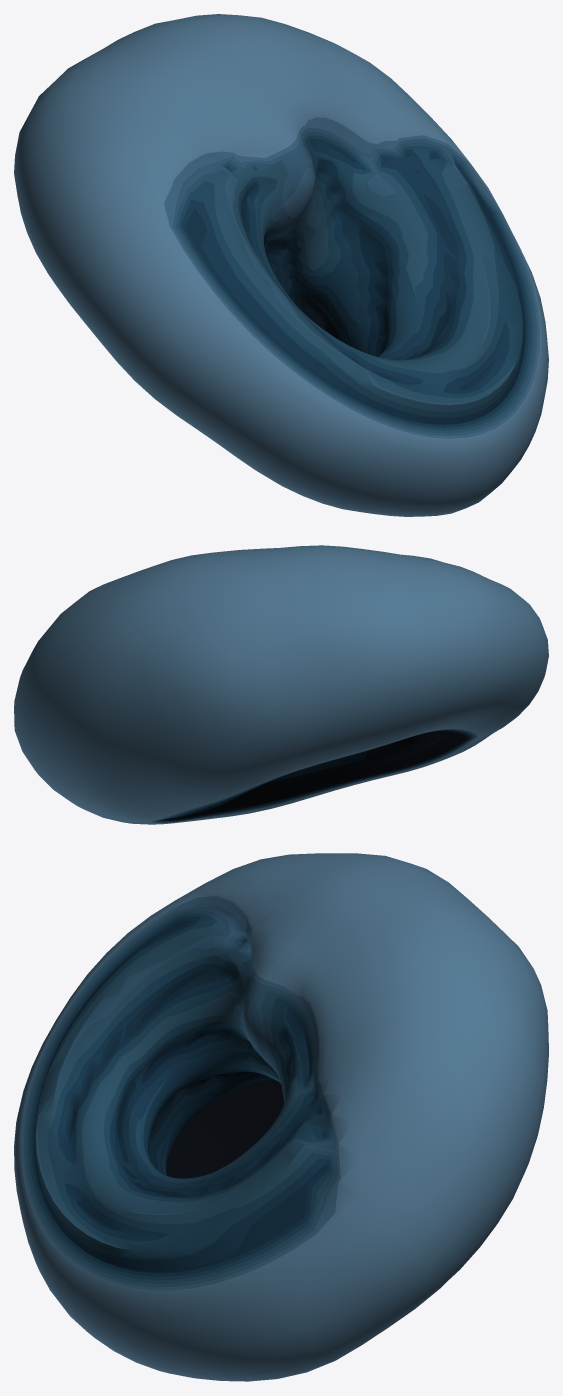
The model's file is donut_129.glb.
3 renders of one model, top to bottom at view 1: azimuth 30°, elevation 25°; view 2: azimuth 150°, elevation 25°; view 3: azimuth 270°, elevation 25°, orthographic. The views are drawn at different scales.
Parts seen in each view (by area): view 1: donut_129; view 2: donut_129; view 3: donut_129, donut_129_membrane.
Part boxes in pixels (box(x1,y1,x2,y2)): donut_129: box(14, 14, 548, 516); donut_129: box(14, 545, 548, 824); donut_129: box(14, 853, 548, 1381); donut_129_membrane: box(166, 1078, 283, 1178).
Size of the model in its own units: 21.9 by 17.1 by 21.05.
